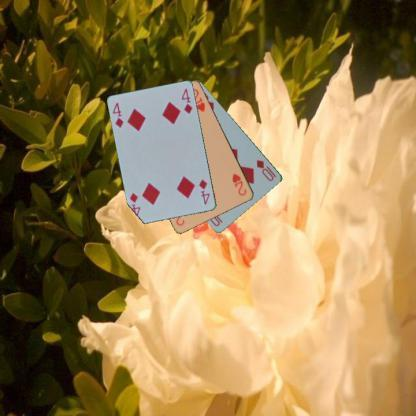10d: (254, 157, 278, 183)
2h: (230, 171, 248, 197)
4d: (196, 176, 211, 206), (110, 100, 125, 130)
